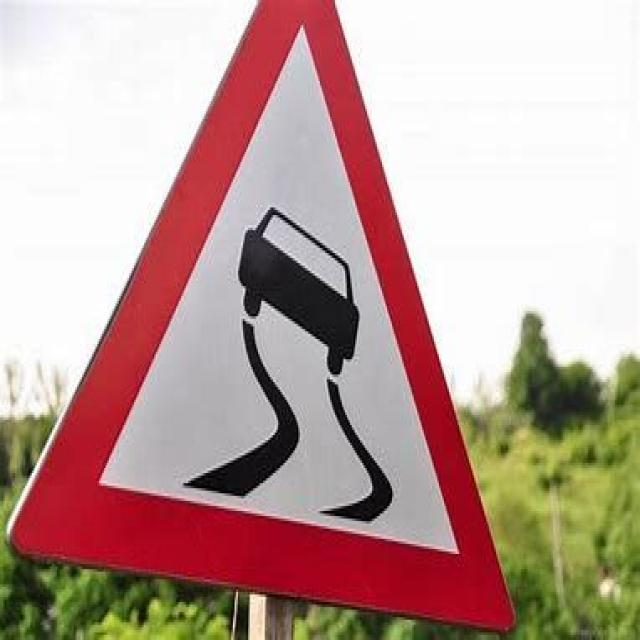children: (5, 0, 517, 637)
